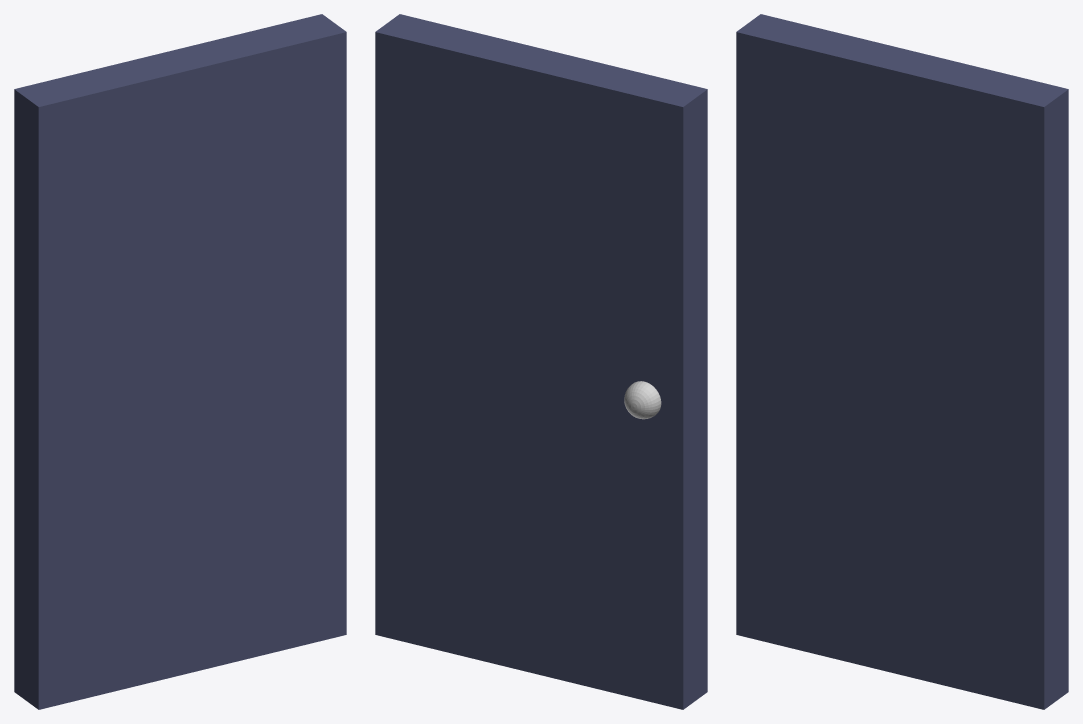
The model's file is gr_Door.fbx.
3 renders of one model, left to right at view 1: azimuth 30°, elevation 25°; view 2: azimuth 150°, elevation 25°; view 3: azimuth 330°, elevation 25°, orthographic.
Visible parts, largest first — view 1: Cube.014; view 2: Cube.014; view 3: Cube.014.
Part boxes in pixels (<box>): Cube.014: <box>14,14,346,709</box>; Cube.014: <box>375,14,707,709</box>; Cube.014: <box>736,14,1068,709</box>.
Bounding box in the file's own units: 183 × 342 × 36.27.
